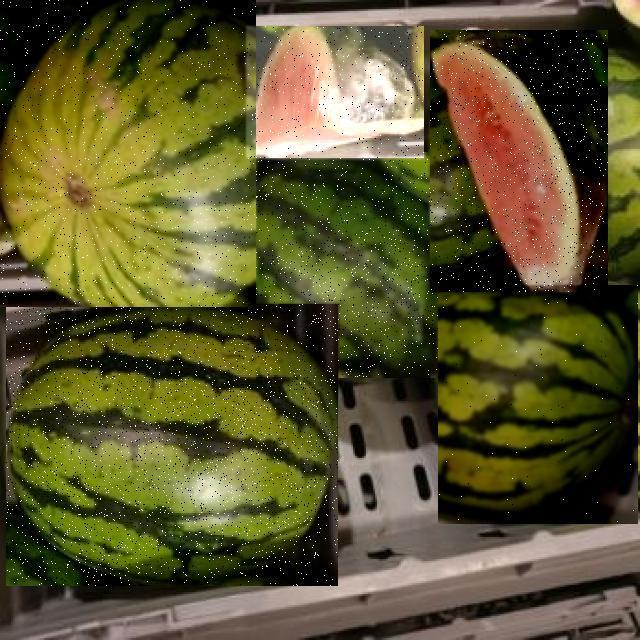Watermelon: (6, 304, 338, 586), (0, 0, 256, 307), (226, 153, 467, 379), (438, 285, 638, 524), (431, 30, 609, 292), (247, 26, 425, 158)
